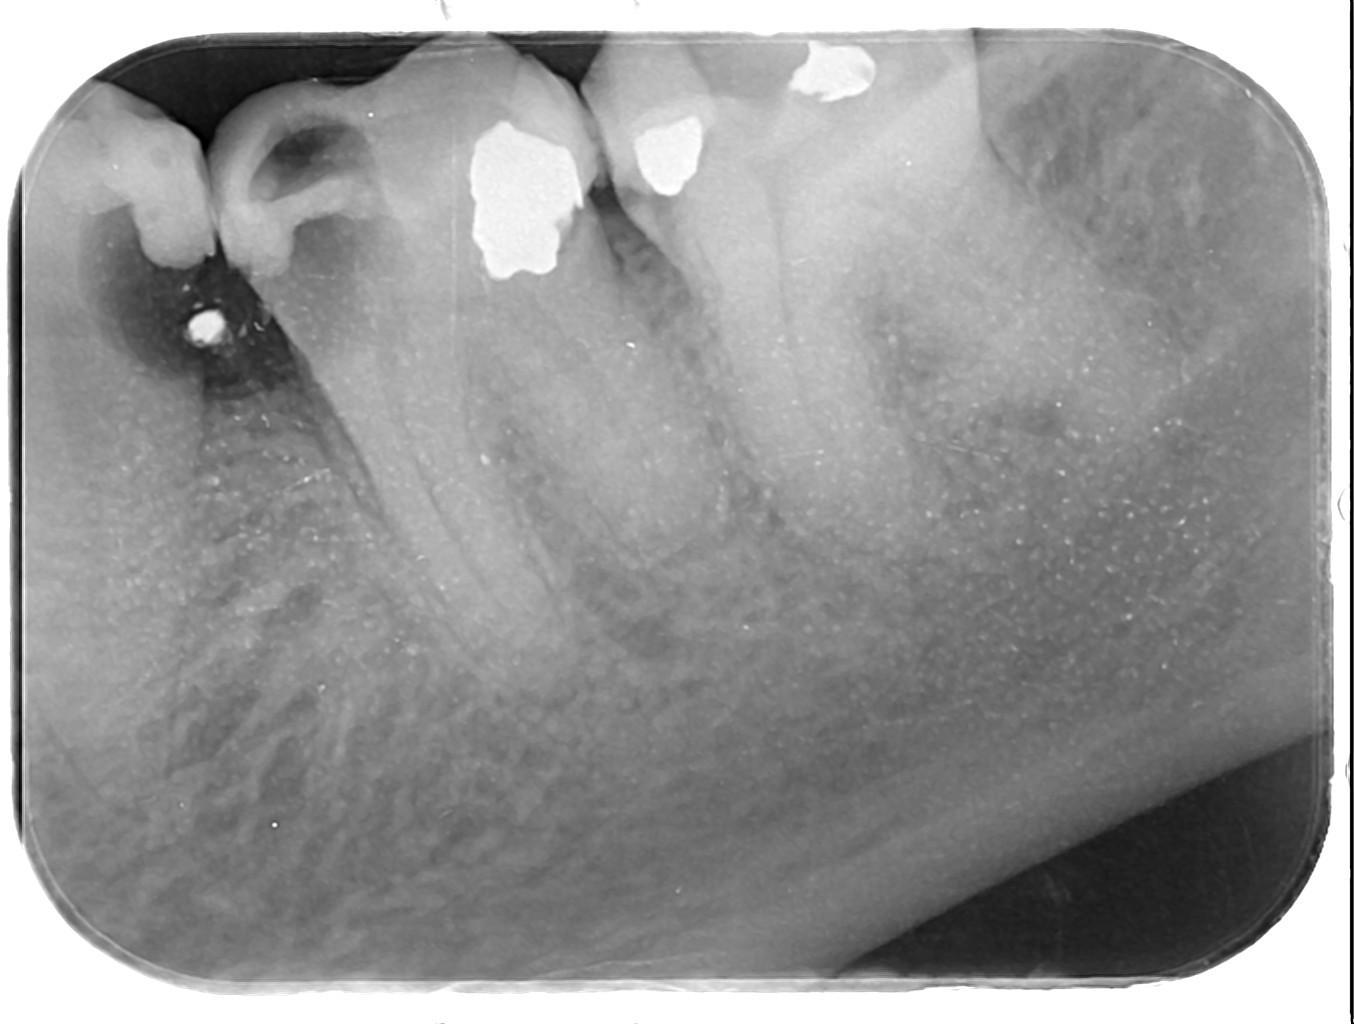caries: (75, 171, 212, 407), (245, 202, 405, 380), (232, 97, 394, 218)
